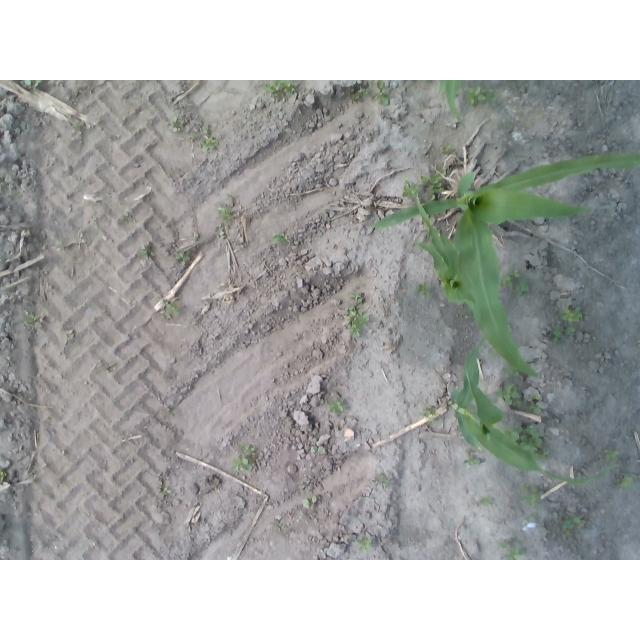Maize: (371, 150, 640, 378), (446, 336, 618, 488), (414, 192, 483, 320), (438, 80, 462, 125)
Weeds: (498, 422, 550, 459), (421, 171, 448, 201), (343, 307, 369, 338), (499, 534, 525, 560), (495, 383, 522, 407), (466, 86, 496, 107), (262, 80, 297, 96), (521, 482, 543, 506), (550, 322, 575, 342), (559, 305, 584, 324), (499, 268, 522, 288), (401, 177, 419, 202), (564, 516, 585, 537), (374, 80, 390, 106), (22, 311, 42, 330), (231, 454, 253, 471), (164, 300, 181, 320), (526, 394, 542, 415), (218, 204, 234, 225), (420, 405, 439, 422), (514, 278, 531, 296), (350, 87, 371, 101), (199, 136, 219, 150), (327, 398, 345, 413), (191, 125, 209, 140), (617, 474, 633, 490), (375, 472, 390, 489), (414, 283, 432, 297), (168, 117, 184, 132), (174, 251, 191, 265), (356, 537, 372, 551), (605, 449, 619, 464), (302, 496, 318, 509), (272, 232, 289, 244), (501, 367, 519, 378), (138, 243, 150, 259), (238, 444, 255, 455), (349, 291, 364, 303), (464, 457, 481, 467), (479, 496, 494, 507), (489, 346, 499, 358), (22, 80, 42, 86), (1, 466, 8, 483), (312, 446, 325, 455), (74, 121, 84, 132), (441, 143, 452, 153), (215, 230, 226, 238), (162, 486, 171, 495), (463, 308, 473, 316), (119, 212, 129, 220)
